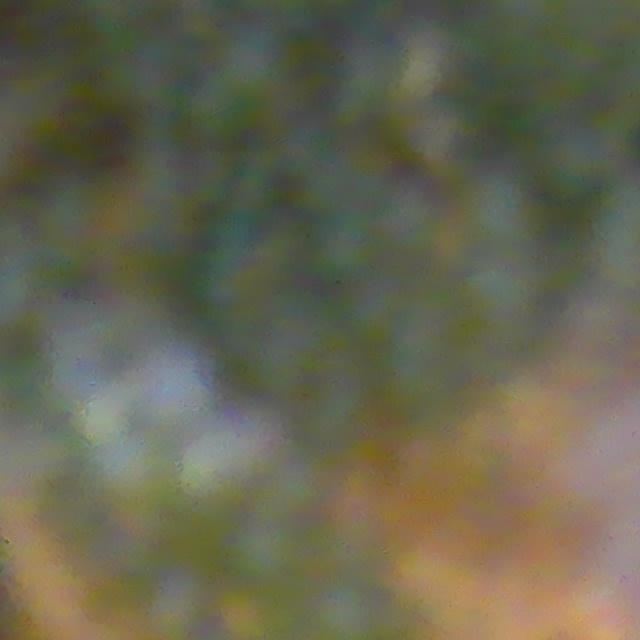SeaGrape: (456, 170, 546, 258), (228, 518, 301, 587)
